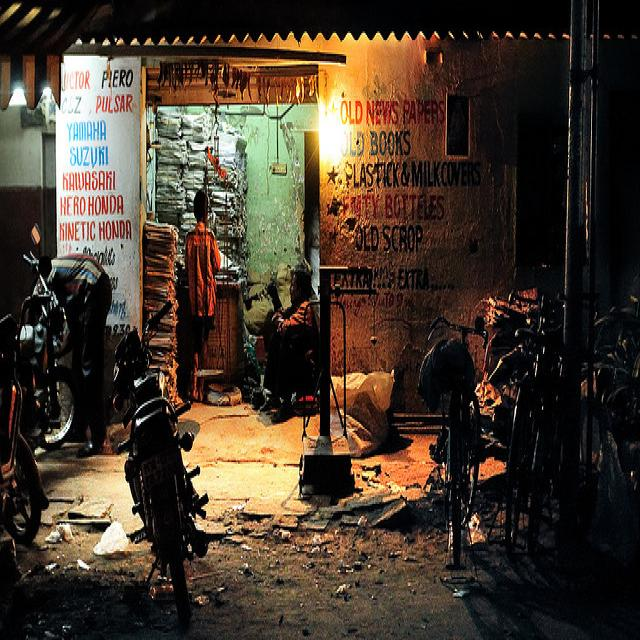Motorbike: (94, 301, 210, 629), (0, 246, 79, 573)
